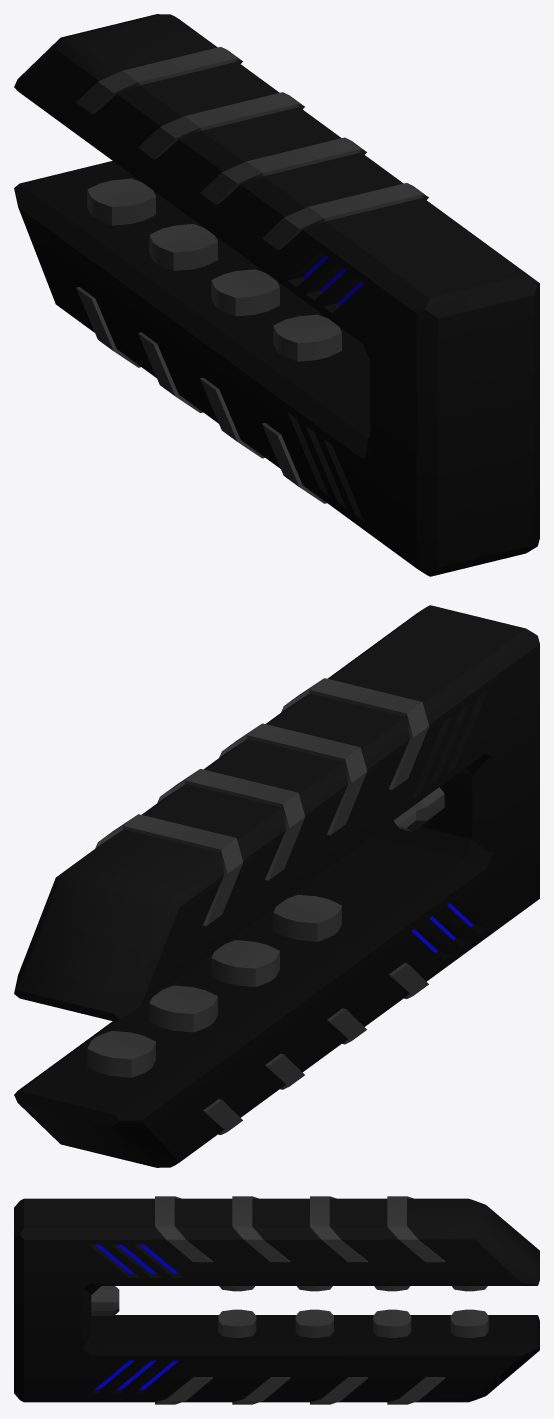
File: Msh_Rail.FBX
3 views of the same model, one above another, from view 1: azimuth 30°, elevation 25°; view 2: azimuth 150°, elevation 25°; view 3: azimuth 270°, elevation 25° (orthographic). The views are drawn at different scales.
Parts seen in each view (by area): view 1: Box001; view 2: Box001; view 3: Box001.
Boxes of the visible parts, x1,y1,x2,y2 form: Box001: [14, 14, 539, 576]; Box001: [14, 605, 539, 1167]; Box001: [14, 1196, 539, 1404].
Bounding box in the file's own units: 7.5 × 41.86 × 15.69.
